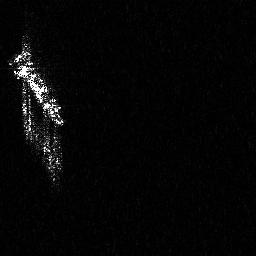ship: (10, 39, 65, 186)
